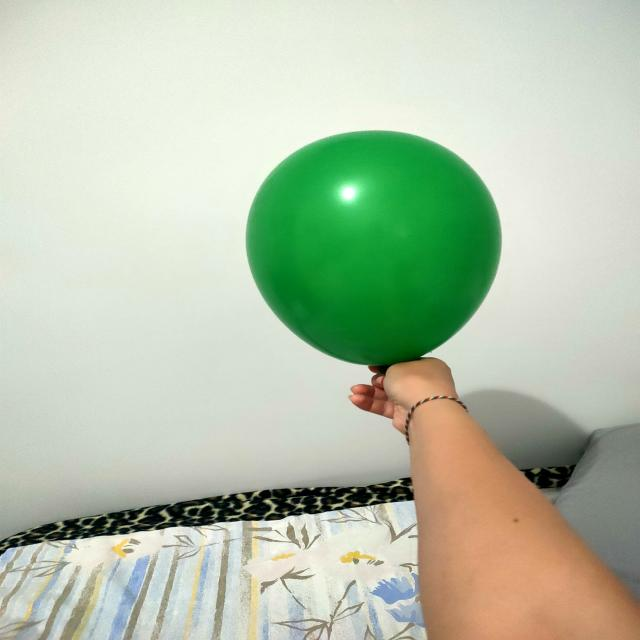green: (250, 129, 500, 373)
